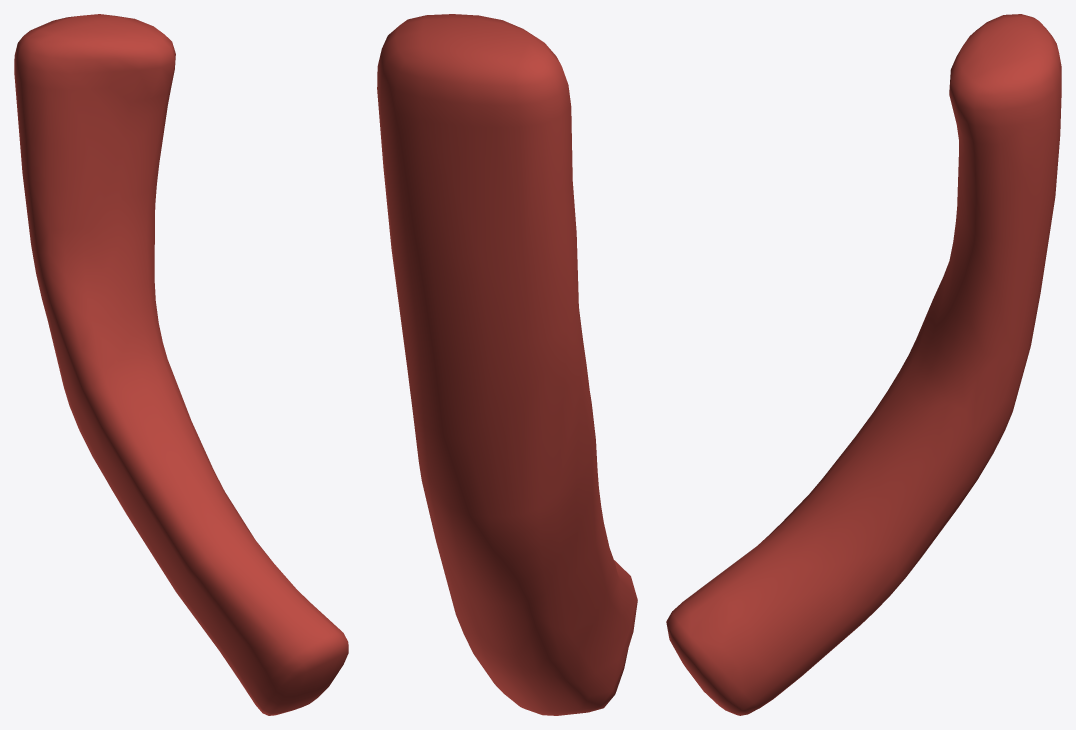
Rendered from musculos-common-tendon-sheath-of-fibularis-muscles-l.glb.
3 views of the same model, side by side, from view 1: azimuth 30°, elevation 25°; view 2: azimuth 150°, elevation 25°; view 3: azimuth 270°, elevation 25° (orthographic). The views are drawn at different scales.
Parts seen in each view (by area): view 1: Common tendon sheath of fibularis muscles.l; view 2: Common tendon sheath of fibularis muscles.l; view 3: Common tendon sheath of fibularis muscles.l.
Boxes of the visible parts, x1=… form: Common tendon sheath of fibularis muscles.l: x1=14, y1=14, x2=348, y2=715; Common tendon sheath of fibularis muscles.l: x1=377, y1=14, x2=637, y2=715; Common tendon sheath of fibularis muscles.l: x1=666, y1=14, x2=1061, y2=715.
Bounding box in the file's own units: 0.0134 × 0.0429 × 0.0242.
